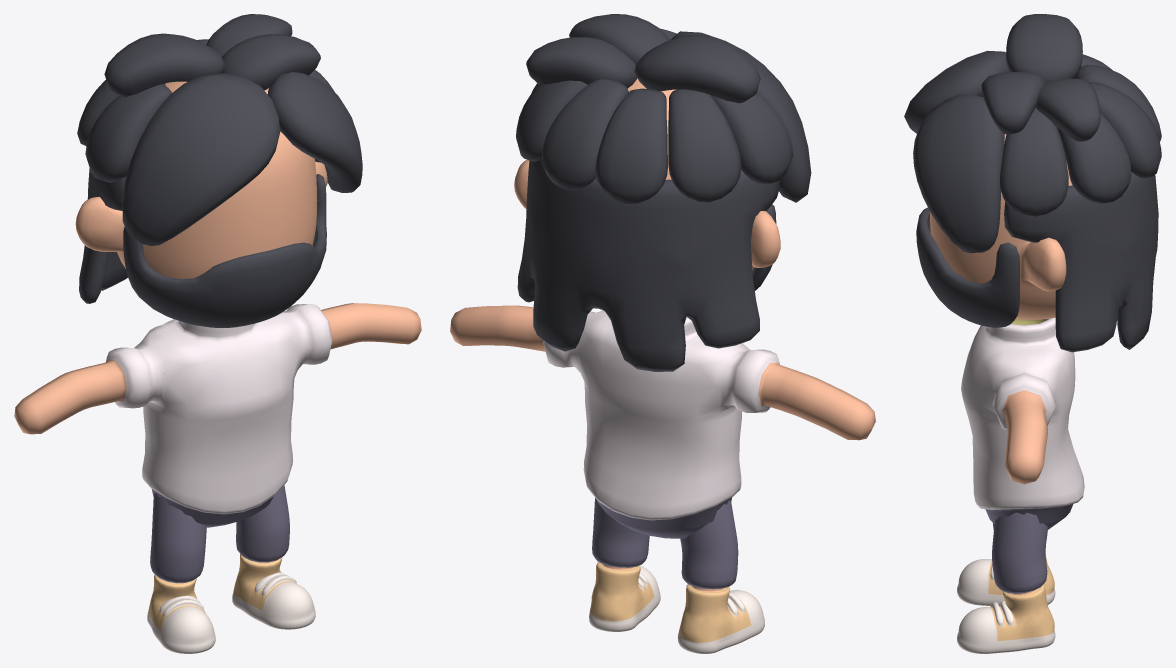
File: man.fbx
3 renders of one model, left to right at view 1: azimuth 30°, elevation 25°; view 2: azimuth 150°, elevation 25°; view 3: azimuth 270°, elevation 25°, orthographic. The views are drawn at different scales.
Visible parts, largest first — view 1: Sphere.002; view 2: Sphere.002; view 3: Sphere.002.
Part boxes in pixels (box(x1,y1,x2,y2)): Sphere.002: box(14, 14, 421, 653); Sphere.002: box(450, 14, 875, 653); Sphere.002: box(904, 14, 1161, 653).
Size of the model in its own units: 82.87 by 115 by 46.54.
Materials: 1 (1 with a texture image).
